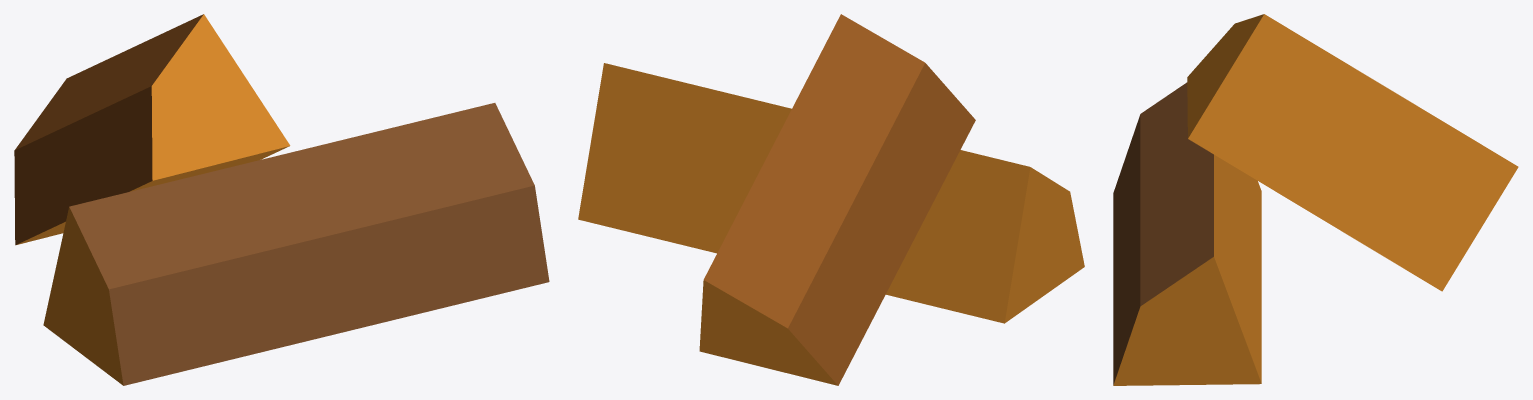
File: trunk01.glb
3 renders of one model, left to right at view 1: azimuth 30°, elevation 25°; view 2: azimuth 150°, elevation 25°; view 3: azimuth 270°, elevation 25°, orthographic. The views are drawn at different scales.
Visible parts, largest first — view 1: Cylinder, Cylinder.001; view 2: Cylinder.001, Cylinder; view 3: Cylinder.001, Cylinder.
Boxes of the visible parts, x1=… form: Cylinder: x1=43, y1=103, x2=549, y2=385; Cylinder.001: x1=14, y1=14, x2=290, y2=245; Cylinder.001: x1=699, y1=14, x2=975, y2=385; Cylinder: x1=578, y1=63, x2=1084, y2=323; Cylinder.001: x1=1187, y1=14, x2=1518, y2=291; Cylinder: x1=1113, y1=82, x2=1261, y2=385.
Size of the model in its own units: 2.49 by 1.55 by 2.21.
